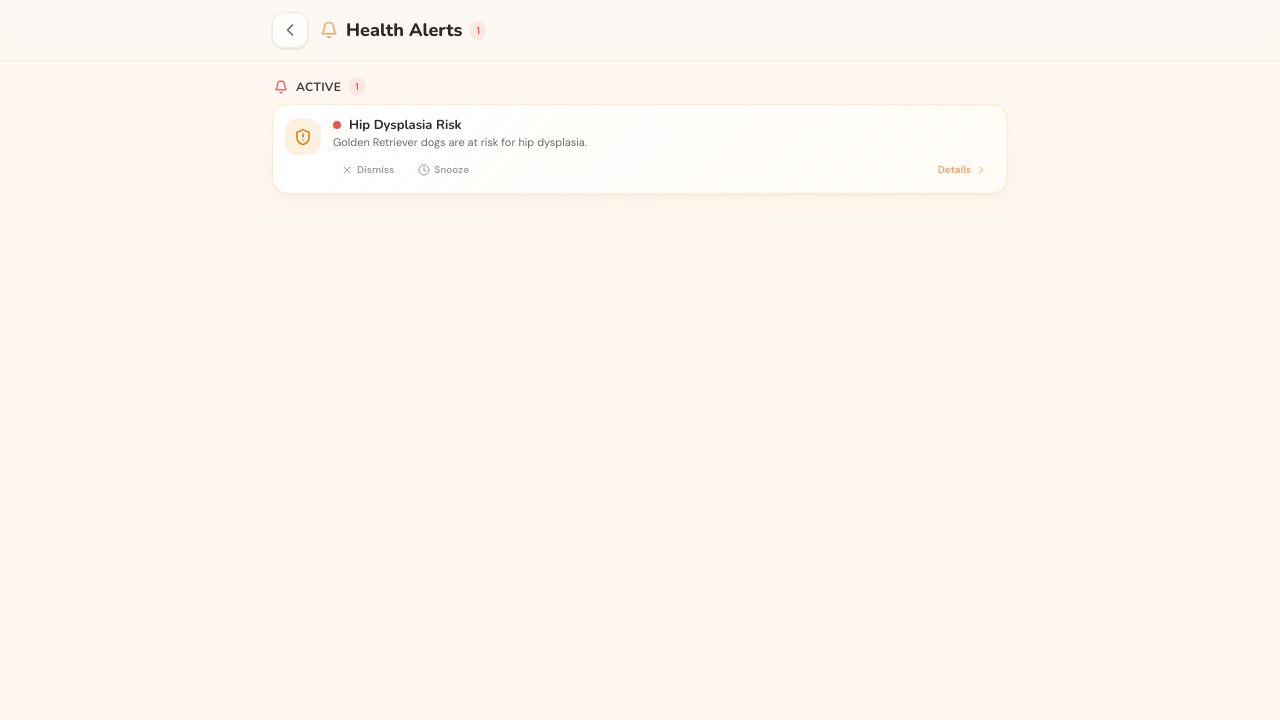
Test case: AlertsPage › opens alert detail modal when alert Details button is clicked
The width and height of the screenshot is (1280, 720).
expect the heading "Hip Dysplasia Risk" is shown: met, box [349,117,462,133]
Click the button with aria-label "view details for hip dysplasia risk".
click(962, 170)  # box [930,158,995,181]
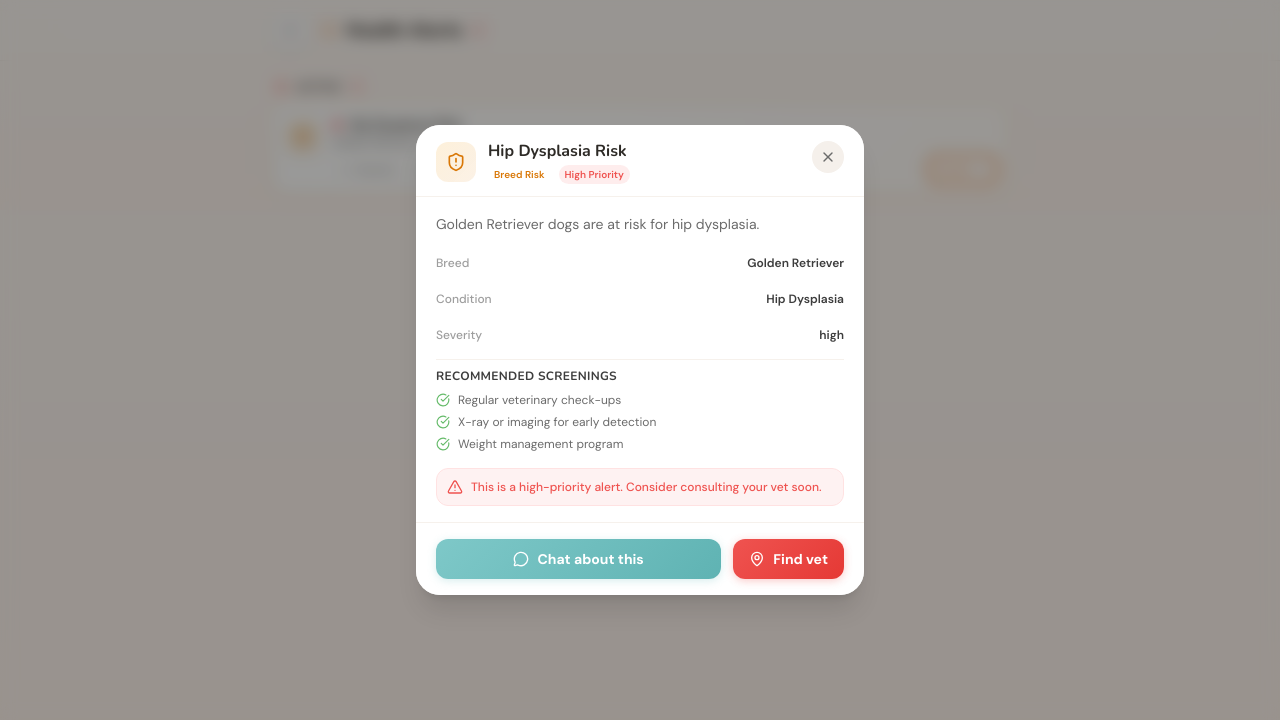
expect the element with test id "alert-detail-modal" is shown: met
